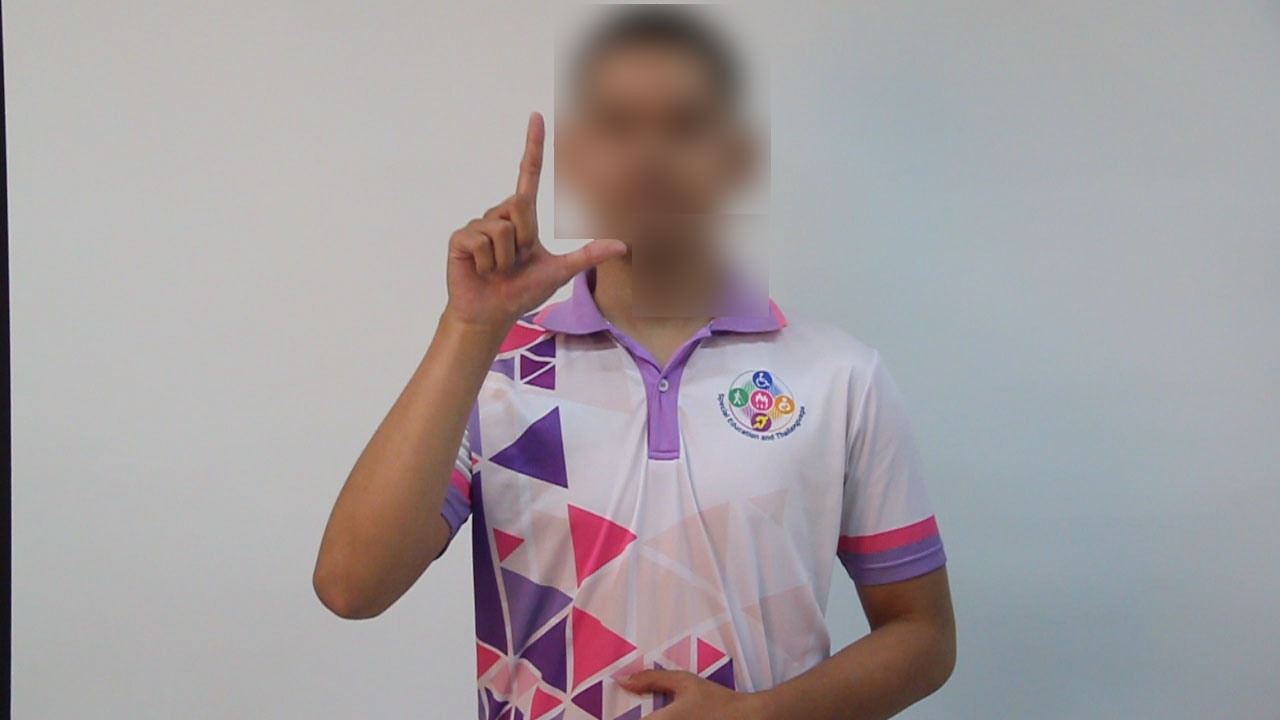lor: (421, 81, 647, 375)
